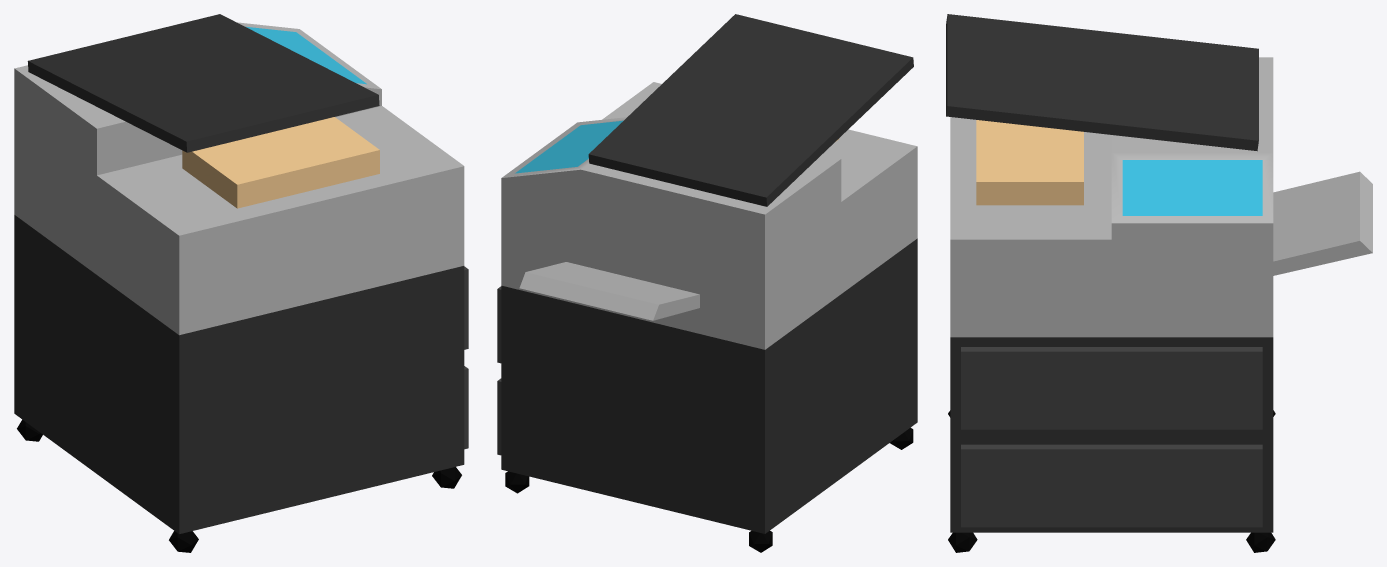
Rendered from Printer.fbx.
3 views of the same model, side by side, from view 1: azimuth 30°, elevation 25°; view 2: azimuth 150°, elevation 25°; view 3: azimuth 270°, elevation 25° (orthographic). The views are drawn at different scales.
Visible parts, largest first — view 1: Printer; view 2: Printer; view 3: Printer.
Part boxes in pixels (bbox=[...]): Printer: bbox=[14, 14, 468, 552]; Printer: bbox=[497, 14, 917, 552]; Printer: bbox=[946, 14, 1372, 552].
Size of the model in its own units: 62.15 by 83.73 by 79.25.
Materials: 1 (1 with a texture image).
